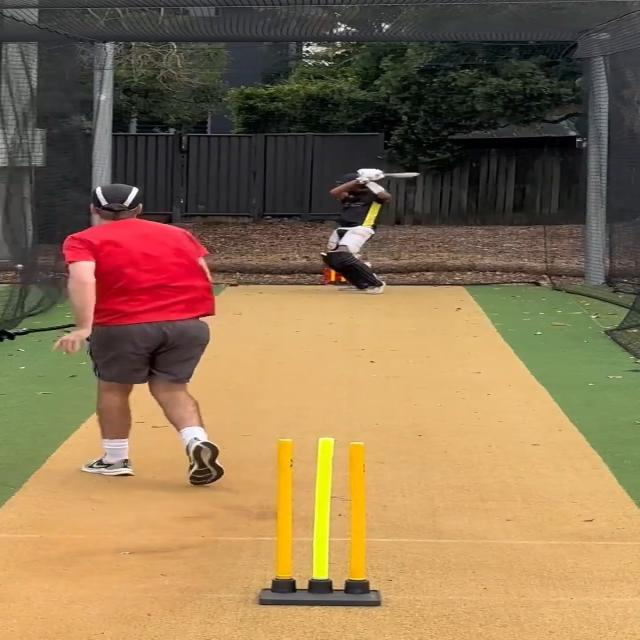stump: (258, 435, 380, 604)
